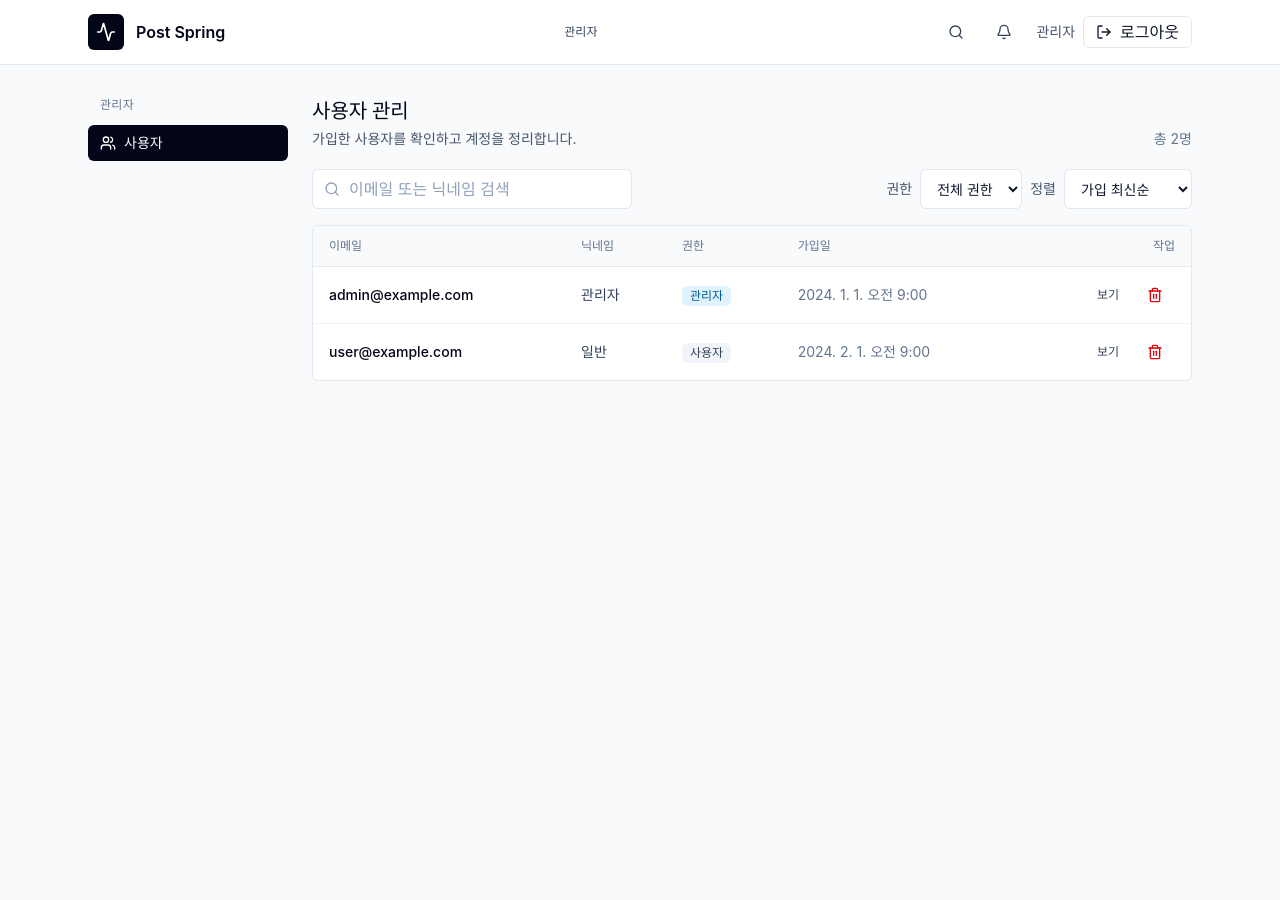
AdminUsersPage › shows a success message after deleting a user
Click the button named "user@example.com 삭제" at point(1155, 352), box [1135,336,1175,368]
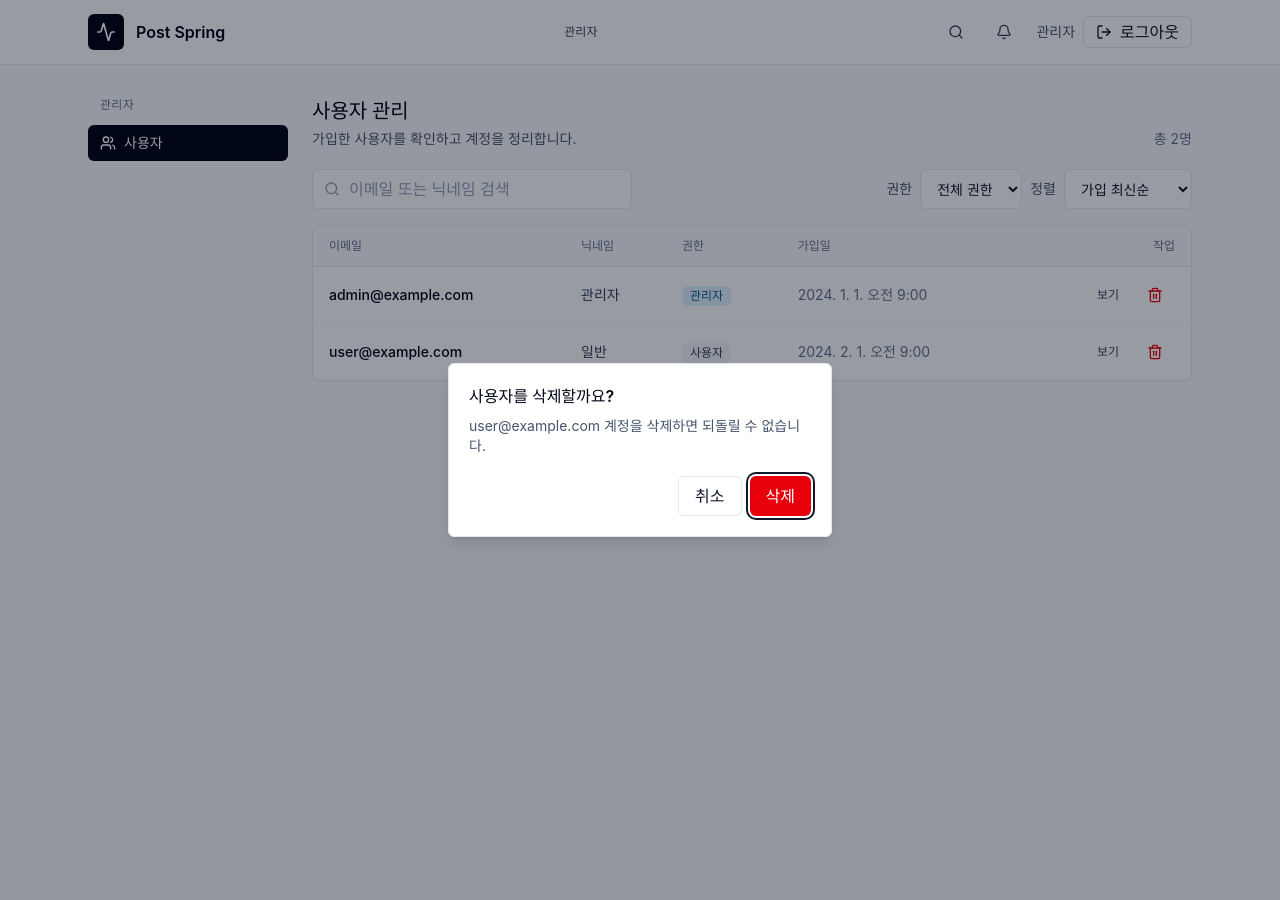
Click the button "삭제" at point(780, 496), box [750,476,811,516]
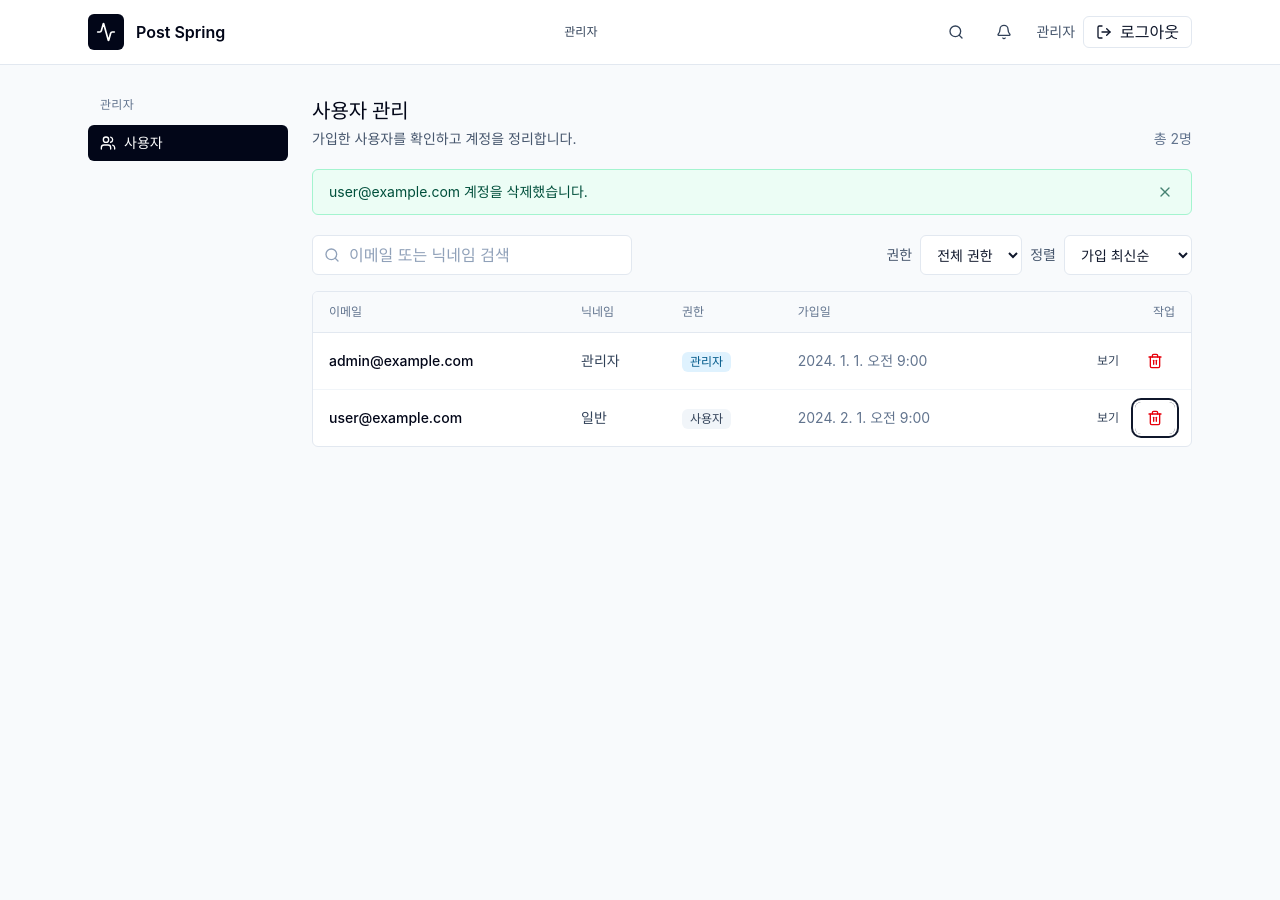
expect the text "user@example.com 계정을 삭제했습니다." is shown: met, box [329,183,588,200]
